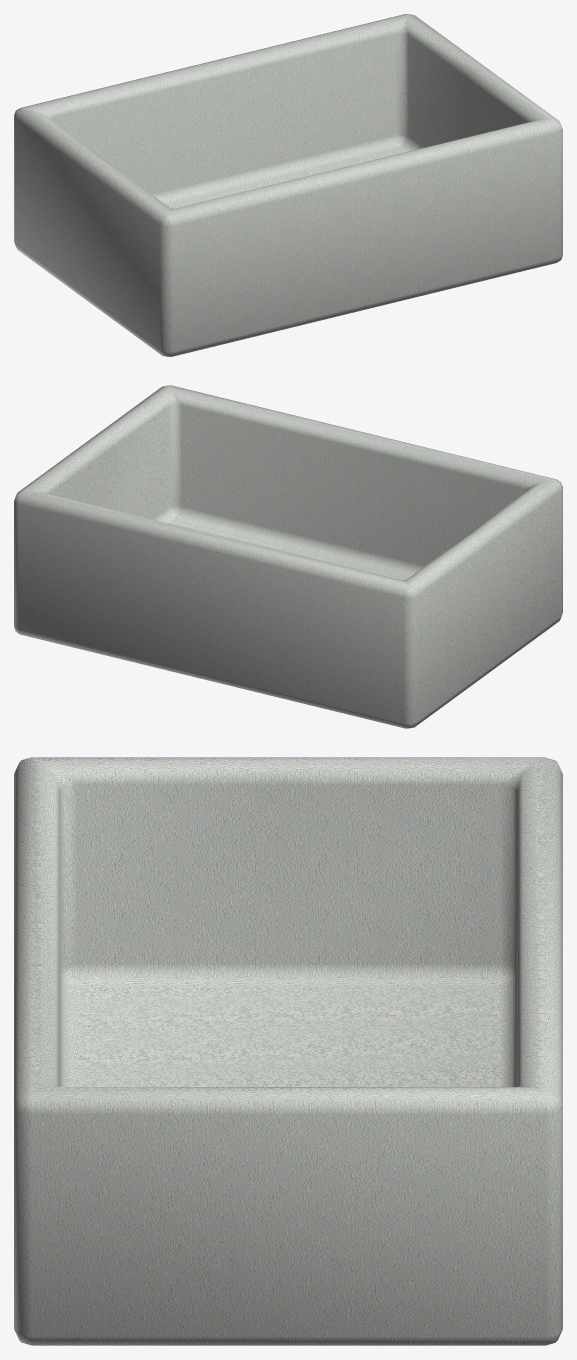
The model's file is Styrofoam Box.glb.
3 views of the same model, one above another, from view 1: azimuth 30°, elevation 25°; view 2: azimuth 150°, elevation 25°; view 3: azimuth 270°, elevation 25° (orthographic). The views are drawn at different scales.
Parts seen in each view (by area): view 1: display.styrofoam.single; view 2: display.styrofoam.single; view 3: display.styrofoam.single.
Part boxes in pixels (bbox=[...]): display.styrofoam.single: bbox=[14, 14, 562, 356]; display.styrofoam.single: bbox=[14, 385, 562, 728]; display.styrofoam.single: bbox=[14, 757, 562, 1345].
Bounding box in the file's own units: 0.4685 × 0.1594 × 0.3123.
1 material, 1 textured.
